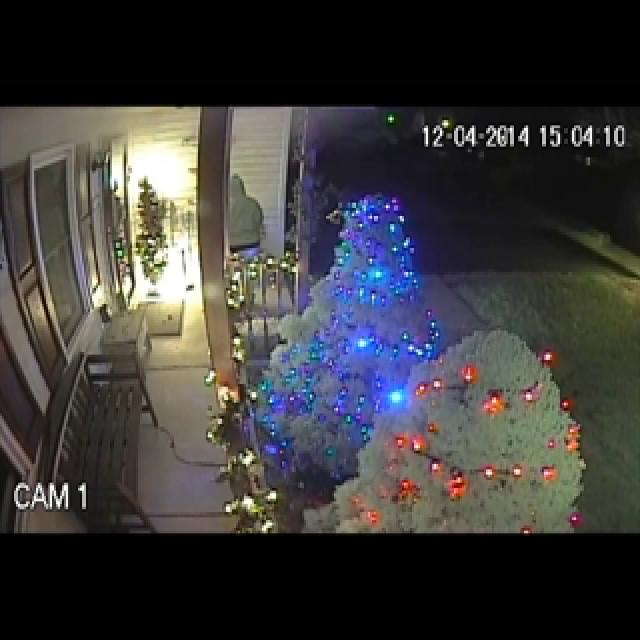arson: (93, 66, 430, 500)
